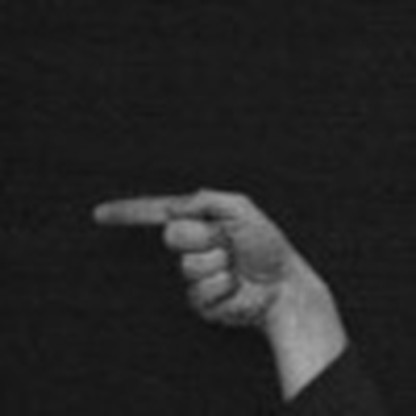g: (89, 180, 288, 331)
